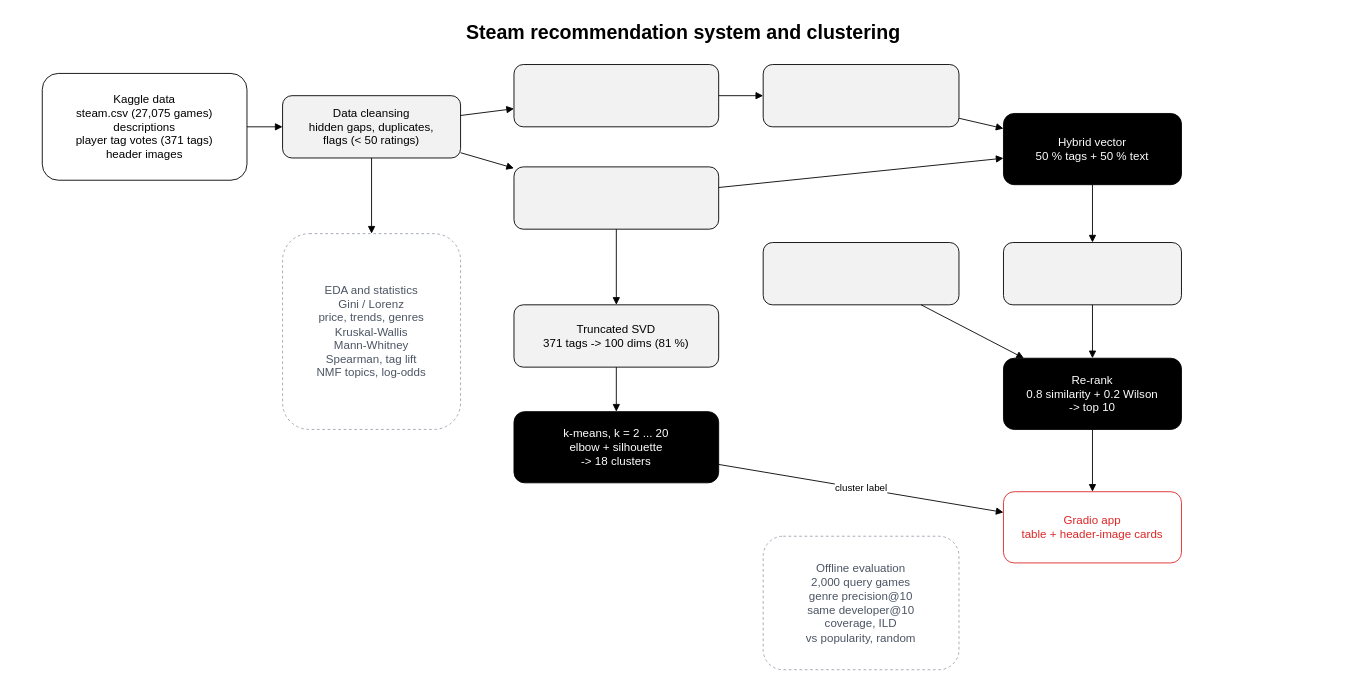
The diagram is 1365 pixels wide and 685 high, and some of its shapes have lost their labels. Each missing label, with the centre of its shape:
"Cosine similarity 100 most similar games" belongs at (x=1092, y=273).
"Quality score Wilson lower bound of positive share" belongs at (x=860, y=273).
"Tag votes -> TF-IDF (sublinear, L2-normalised)" belongs at (x=616, y=197).
"Text normalization HTML, links, stopwords, Porter stemming" belongs at (x=616, y=95).
"TF-IDF on descriptions 50,000 words + bigrams" belongs at (x=860, y=95).
